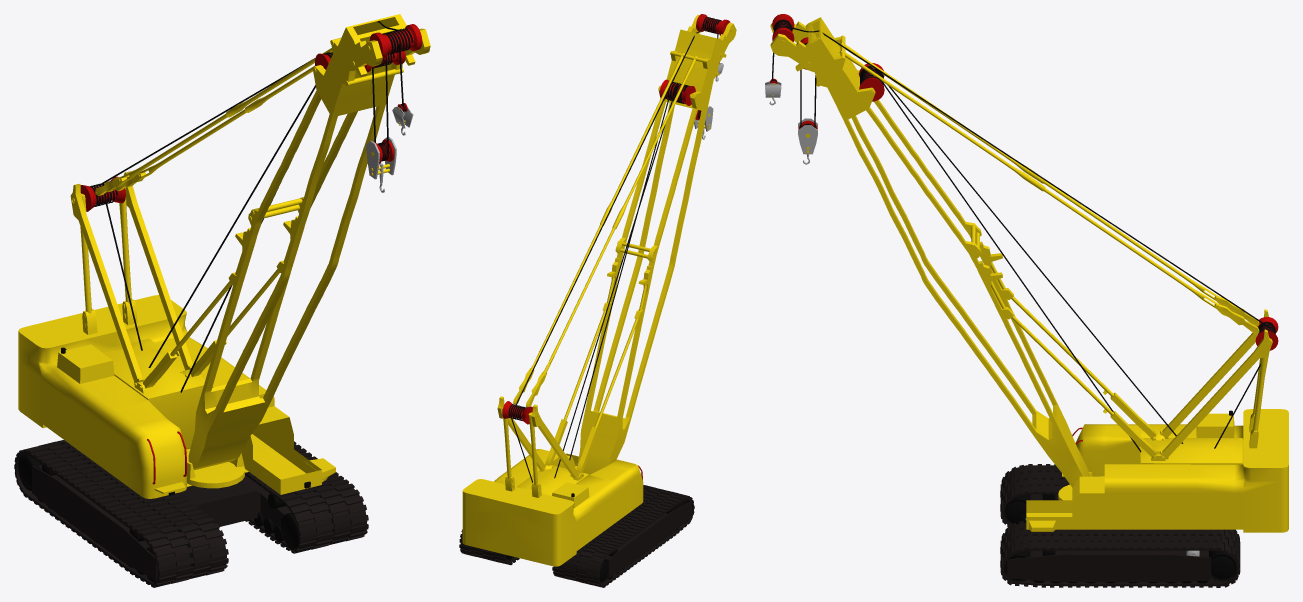
The model's file is uploads_files_709111_Гусеничный+кран.FBX.
3 renders of one model, left to right at view 1: azimuth 30°, elevation 25°; view 2: azimuth 150°, elevation 25°; view 3: azimuth 270°, elevation 25°, orthographic. The views are drawn at different scales.
Visible parts, largest first — view 1: Cylinder001, Object015; view 2: Cylinder001, Object015; view 3: Cylinder001, Object015.
Part boxes in pixels (left/top/right/bottom): Cylinder001: left=18, top=14, right=430, bottom=498; Object015: left=14, top=440, right=368, bottom=587; Cylinder001: left=462, top=14, right=736, bottom=566; Object015: left=459, top=485, right=694, bottom=587; Cylinder001: left=765, top=14, right=1288, bottom=532; Object015: left=1000, top=464, right=1240, bottom=587.
Size of the model in its own units: 2.85 by 8.31 by 7.52.
